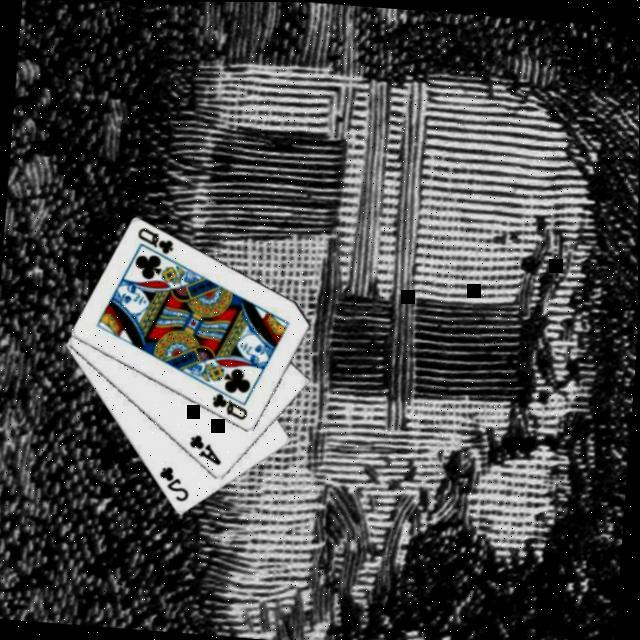2C: (156, 463, 195, 505)
AC: (187, 431, 227, 468)
QC: (210, 390, 254, 423), (135, 224, 179, 257)
